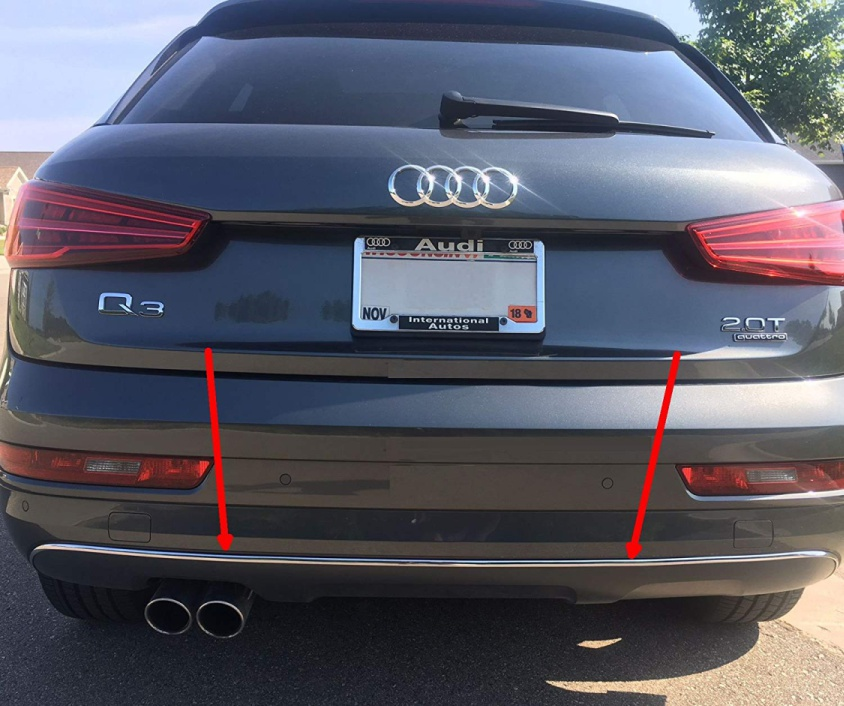audi: (360, 147, 525, 212)
